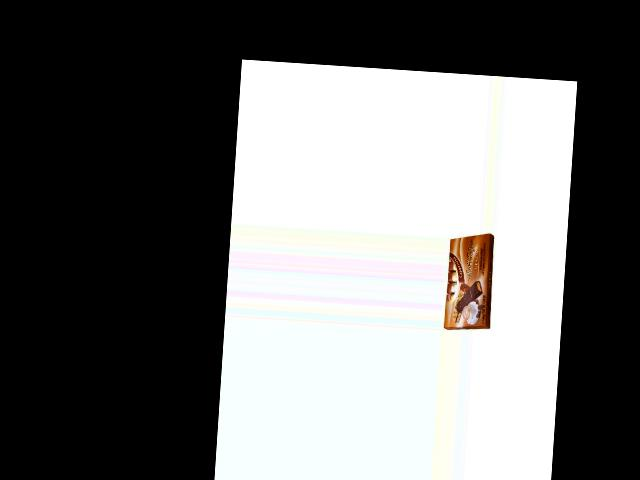chocolate: (443, 228, 496, 332)
